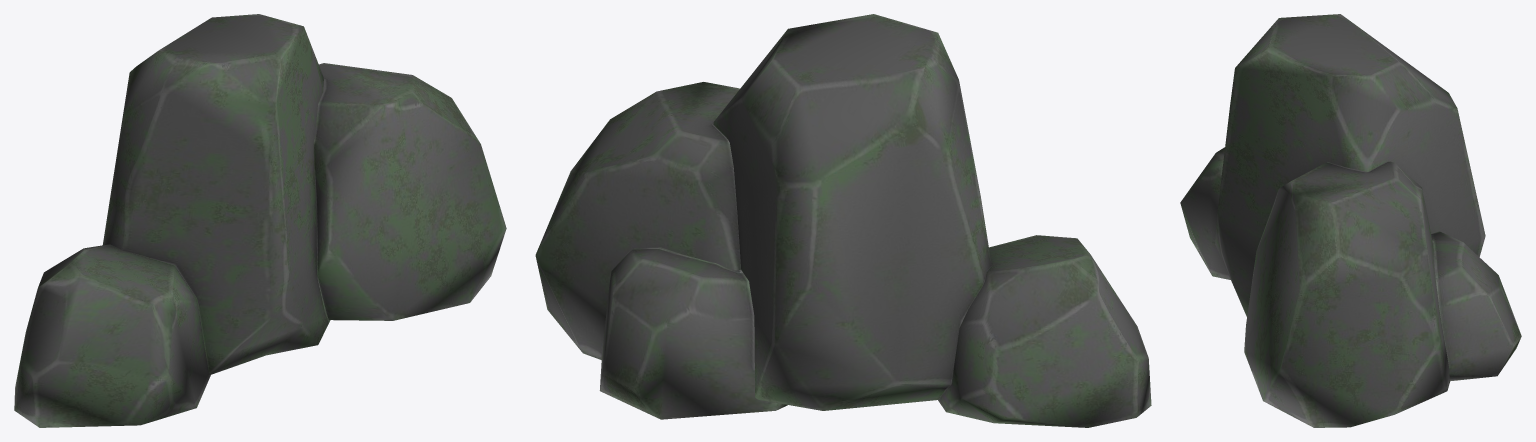
File: Rock.obj
3 renders of one model, left to right at view 1: azimuth 30°, elevation 25°; view 2: azimuth 150°, elevation 25°; view 3: azimuth 270°, elevation 25°, orthographic. The views are drawn at different scales.
Visible parts, largest first — view 1: defaultMaterial.001, defaultMaterial.003, defaultMaterial; view 2: defaultMaterial.001, defaultMaterial.003, defaultMaterial, defaultMaterial.002; view 3: defaultMaterial.003, defaultMaterial.001, defaultMaterial.002, defaultMaterial.
Part boxes in pixels (x1=…): defaultMaterial.001: x1=103, y1=14, x2=330, y2=374; defaultMaterial.003: x1=313, y1=63, x2=506, y2=320; defaultMaterial: x1=14, y1=244, x2=210, y2=427; defaultMaterial.001: x1=713, y1=14, x2=992, y2=410; defaultMaterial.003: x1=535, y1=82, x2=740, y2=359; defaultMaterial: x1=938, y1=235, x2=1151, y2=427; defaultMaterial.002: x1=599, y1=247, x2=787, y2=419; defaultMaterial.003: x1=1244, y1=161, x2=1449, y2=427; defaultMaterial.001: x1=1215, y1=14, x2=1485, y2=316; defaultMaterial.002: x1=1431, y1=231, x2=1521, y2=381; defaultMaterial: x1=1180, y1=147, x2=1230, y2=279.
Size of the model in its own units: 2 by 1.21 by 1.31.
